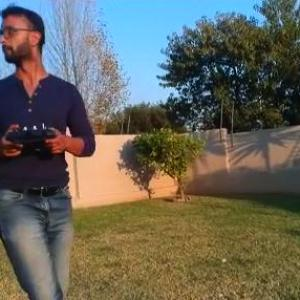follow: (1, 0, 99, 299)
